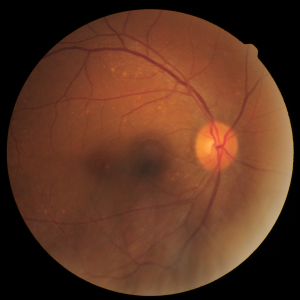retina_disease: (76, 100, 271, 218)
